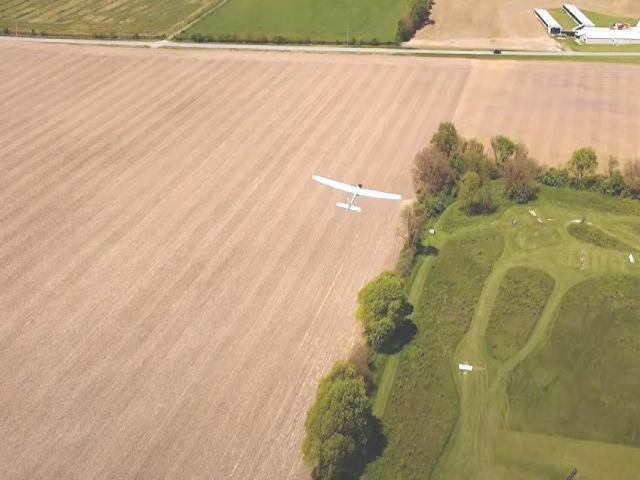iha: (312, 172, 403, 214)
